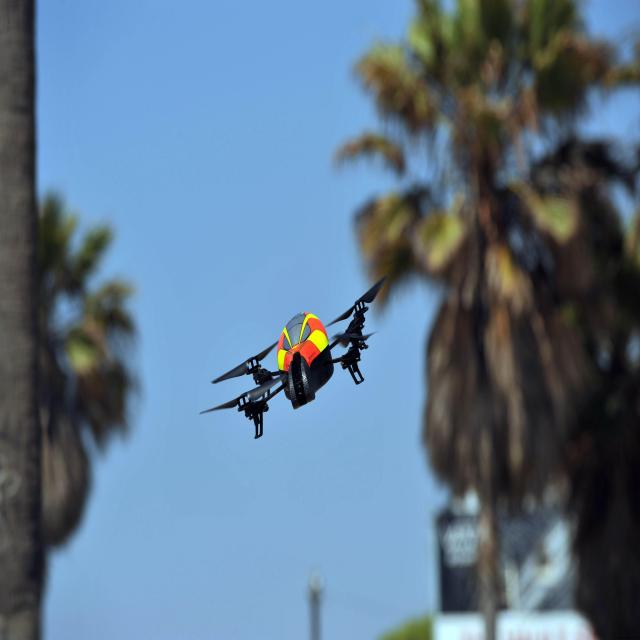drone: (197, 273, 388, 441)
